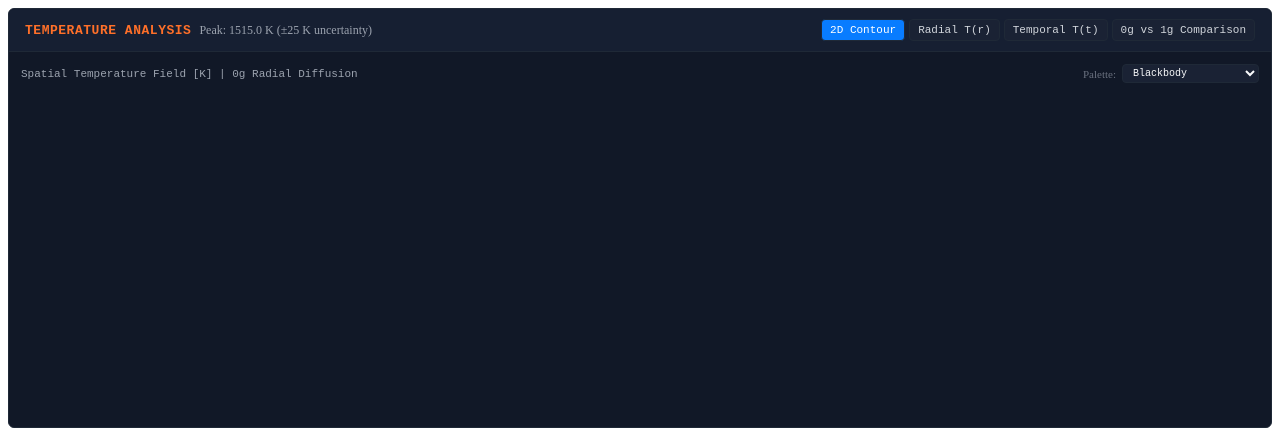
Test: TemperatureDistributionChart Component › switches to Temporal T(t) tab and displays time evolution
Click the button "Temporal T(t)".
click(1056, 30)  # box x1=1004 y1=19 x2=1108 y2=41
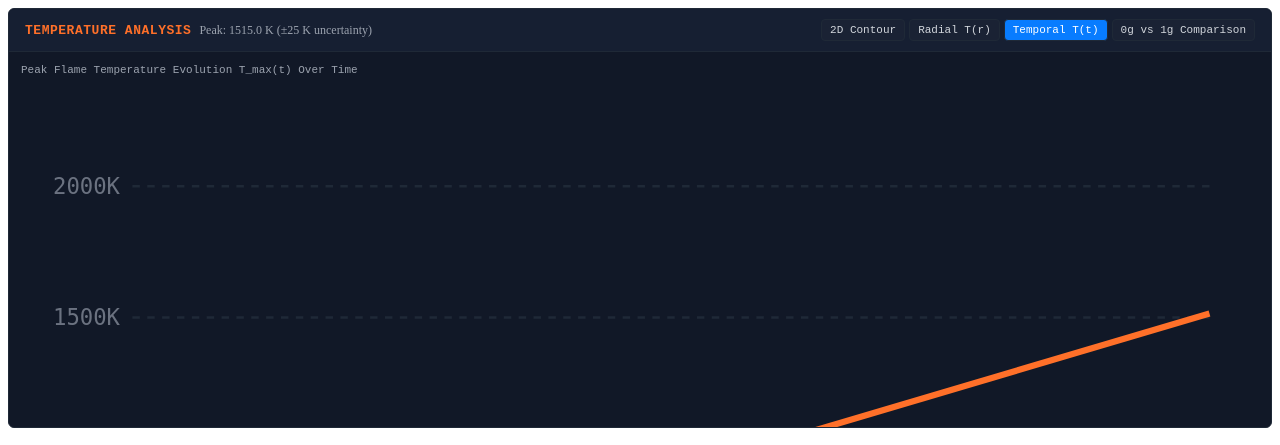
Now the text "Peak Flame Temperature Evolution T_max(t) Over Time" is shown, box x1=21 y1=64 x2=358 y2=76
